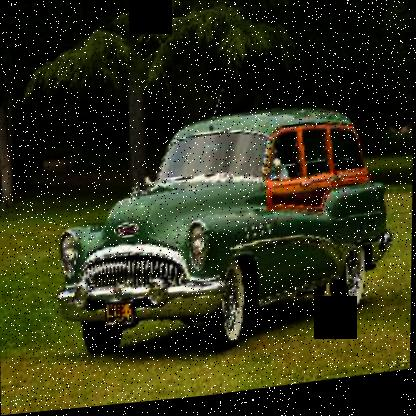not_emergency: (35, 71, 398, 376)
